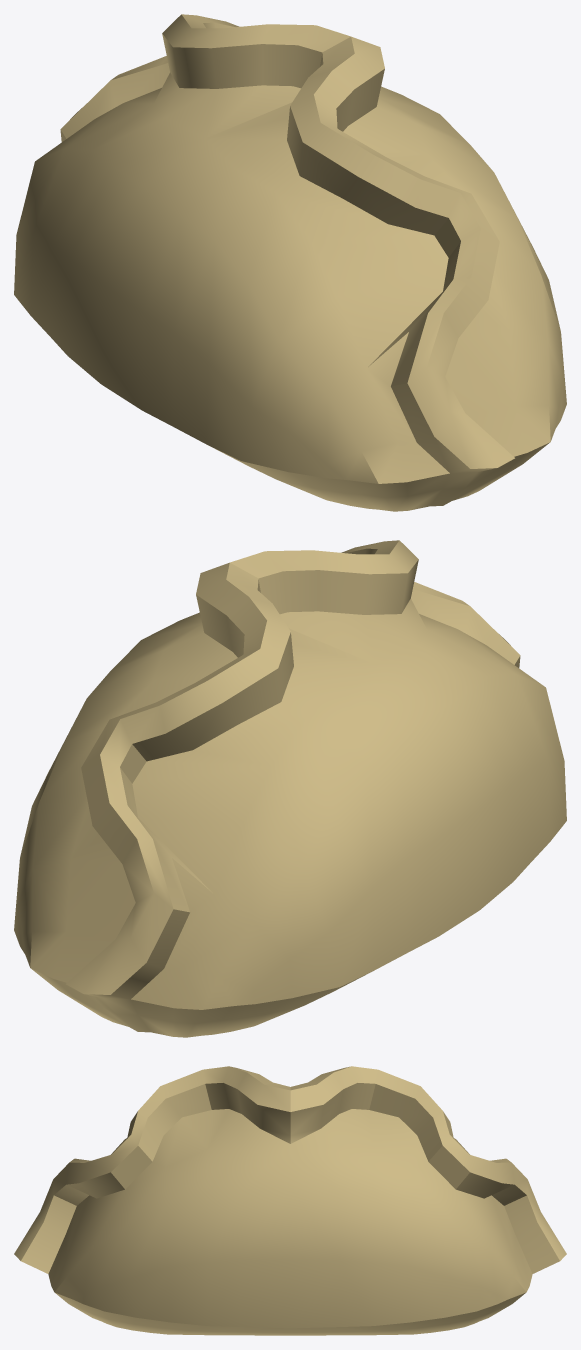
Rendered from quaternius-sushi-restaurant-food-gyoza.glb.
3 views of the same model, one above another, from view 1: azimuth 30°, elevation 25°; view 2: azimuth 150°, elevation 25°; view 3: azimuth 270°, elevation 25° (orthographic). The views are drawn at different scales.
Parts seen in each view (by area): view 1: Food_Gyoza; view 2: Food_Gyoza; view 3: Food_Gyoza.
Part boxes in pixels (x1=…): Food_Gyoza: x1=14, y1=14, x2=566, y2=511; Food_Gyoza: x1=14, y1=540, x2=566, y2=1037; Food_Gyoza: x1=14, y1=1066, x2=566, y2=1335.
Size of the model in its own units: 0.2968 by 0.2588 by 0.5511.
1 material, 1 textured.
